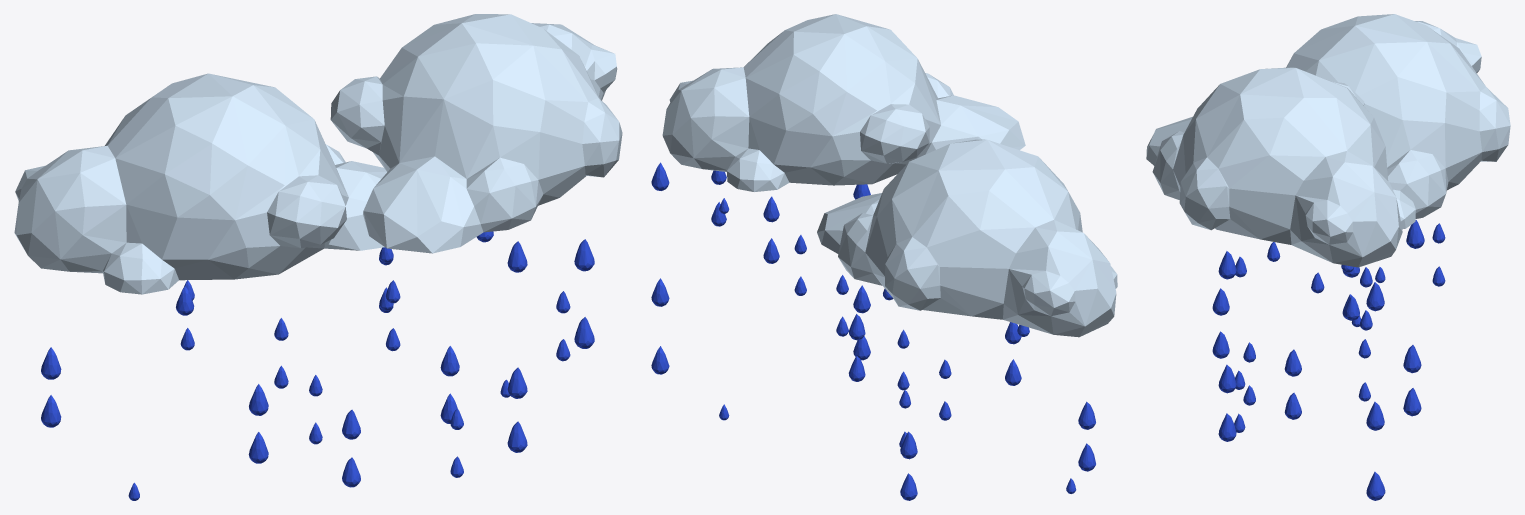
File: RainRain.gltf
3 views of the same model, side by side, from view 1: azimuth 30°, elevation 25°; view 2: azimuth 150°, elevation 25°; view 3: azimuth 270°, elevation 25° (orthographic). The views are drawn at different scales.
Visible parts, largest first — view 1: Icosphere.005, Icosphere.000; view 2: Icosphere.000, Icosphere.005; view 3: Icosphere.000, Icosphere.005.
Boxes of the visible parts, x1,y1,x2,y2 form: Icosphere.005: [14, 73, 386, 294]; Icosphere.000: [330, 14, 622, 253]; Icosphere.000: [662, 14, 1025, 191]; Icosphere.005: [817, 139, 1117, 337]; Icosphere.000: [1146, 67, 1415, 267]; Icosphere.005: [1286, 14, 1510, 218].
Bounding box in the file's own units: 4.87 × 3.82 × 3.09.
